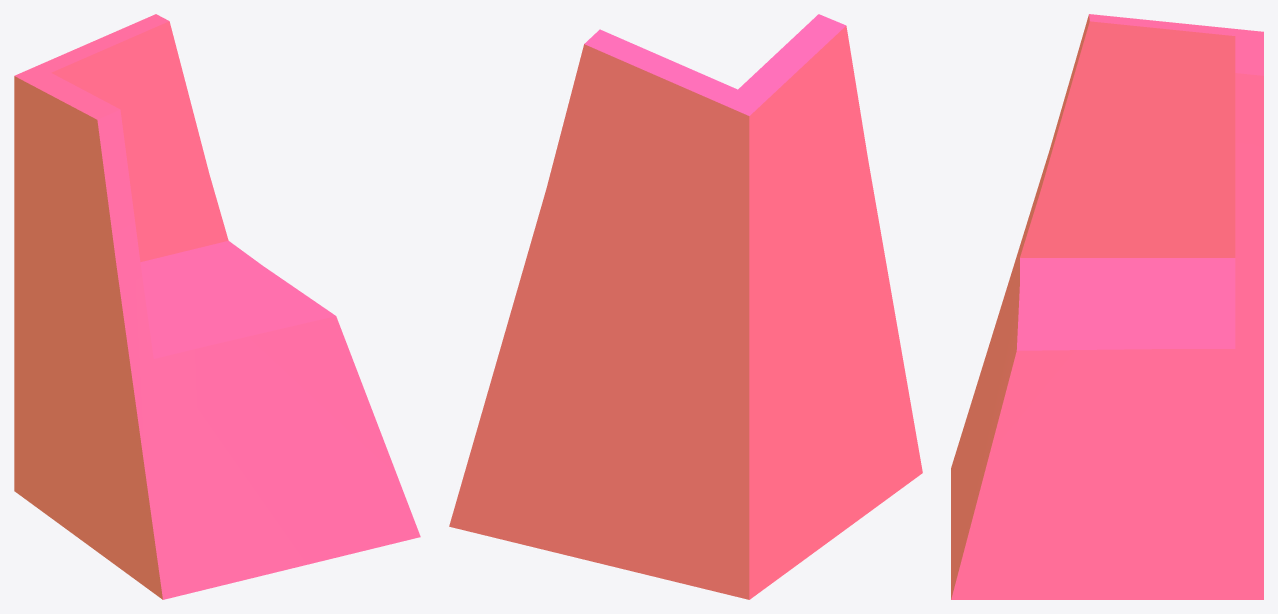
File: base-missing-start.fbx
3 renders of one model, left to right at view 1: azimuth 30°, elevation 25°; view 2: azimuth 150°, elevation 25°; view 3: azimuth 270°, elevation 25°, orthographic. The views are drawn at different scales.
Visible parts, largest first — view 1: pCube7; view 2: pCube7; view 3: pCube7.
Part boxes in pixels (x1,y1,x2,y2): pCube7: (14,14,420,599); pCube7: (449,14,922,599); pCube7: (951,14,1263,599).
Size of the model in its own units: 5.5 by 9.08 by 5.5.
